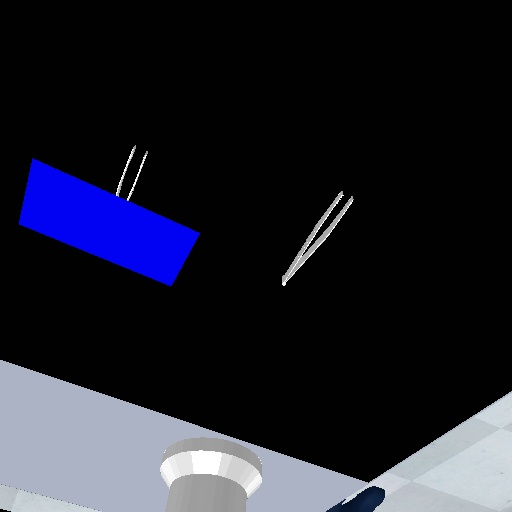pinza: (277, 188, 358, 293), (112, 142, 150, 205)
